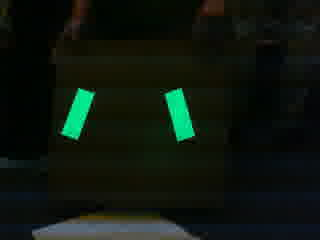target: (57, 87, 196, 141)
